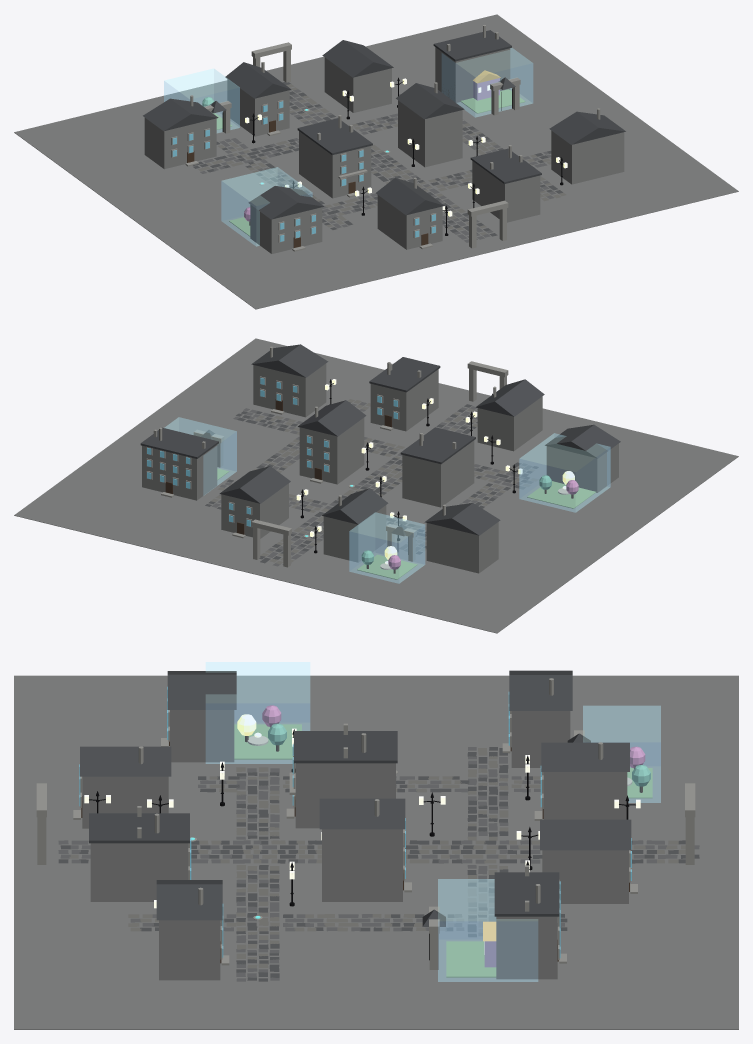
Rendered from Location02_OldTownNightSquare.fbx.
3 renders of one model, top to bottom at view 1: azimuth 30°, elevation 25°; view 2: azimuth 150°, elevation 25°; view 3: azimuth 270°, elevation 25°, orthographic. The views are drawn at different scales.
Visible parts, largest first — view 1: GROUND_OldTown_60x52m_SoftEdge, VIS_Road_CobblestonePavers_FirstStyle, ZONE_EastSanctuary_BrightInterior_TranslucentProtectionVolum, ZONE_WestGarden_NotForFragment_TranslucentProtectionVolume, ARCH_EastRow_B_OldStoneBody, ARCH_SouthCross_Right_OldStoneBody, ARCH_WestRow_B_OldStoneBody, ARCH_NorthCross_Left_OldStoneBody, ARCH_NorthCross_Right_OldStoneBody, ARCH_EastRow_A_OldStoneBody, ARCH_EastRow_C_OldStoneBody, ZONE_NorthPocket_WarmDream_TranslucentProtectionVolume (+14 smaller); view 2: GROUND_OldTown_60x52m_SoftEdge, VIS_Road_CobblestonePavers_FirstStyle, ZONE_WestGarden_NotForFragment_TranslucentProtectionVolume, ZONE_NorthPocket_WarmDream_TranslucentProtectionVolume, ARCH_WestRow_B_OldStoneBody, ARCH_EastRow_B_OldStoneBody, ARCH_NorthCross_Left_OldStoneBody, ARCH_NorthCross_Right_OldStoneBody, ARCH_SouthCross_Right_OldStoneBody, ARCH_EastRow_A_OldStoneBody, ARCH_WestRow_C_OldStoneBody, ARCH_SouthCross_Left_OldStoneBody (+15 smaller); view 3: GROUND_OldTown_60x52m_SoftEdge, VIS_Road_CobblestonePavers_FirstStyle, ZONE_WestGarden_NotForFragment_TranslucentProtectionVolume, ZONE_EastSanctuary_BrightInterior_TranslucentProtectionVolum, ARCH_EastRow_B_OldStoneBody, ARCH_EastRow_A_OldStoneBody, ZONE_NorthPocket_WarmDream_TranslucentProtectionVolume, ARCH_WestRow_B_OldStoneBody, ARCH_EastRow_C_OldStoneBody, ARCH_WestRow_C_OldStoneBody, ARCH_NorthCross_Right_OldStoneBody, ARCH_SouthCross_Right_OldStoneBody (+15 smaller).
Boxes of the visible parts, left/top/right/bottom form: GROUND_OldTown_60x52m_SoftEdge: left=14, top=14, right=738, bottom=309; VIS_Road_CobblestonePavers_FirstStyle: left=193, top=82, right=566, bottom=242; ZONE_EastSanctuary_BrightInterior_TranslucentProtectionVolum: left=442, top=48, right=532, bottom=117; ZONE_WestGarden_NotForFragment_TranslucentProtectionVolume: left=221, top=167, right=312, bottom=246; ARCH_EastRow_B_OldStoneBody: left=398, top=100, right=462, bottom=167; ARCH_SouthCross_Right_OldStoneBody: left=551, top=130, right=624, bottom=184; ARCH_WestRow_B_OldStoneBody: left=299, top=131, right=371, bottom=198; ARCH_NorthCross_Left_OldStoneBody: left=144, top=118, right=216, bottom=169; ARCH_NorthCross_Right_OldStoneBody: left=435, top=47, right=510, bottom=102; ARCH_EastRow_A_OldStoneBody: left=472, top=161, right=540, bottom=222; ARCH_EastRow_C_OldStoneBody: left=324, top=57, right=391, bottom=112; ZONE_NorthPocket_WarmDream_TranslucentProtectionVolume: left=164, top=68, right=239, bottom=132; GROUND_OldTown_60x52m_SoftEdge: left=14, top=338, right=738, bottom=633; VIS_Road_CobblestonePavers_FirstStyle: left=205, top=399, right=538, bottom=566; ZONE_WestGarden_NotForFragment_TranslucentProtectionVolume: left=519, top=433, right=610, bottom=512; ZONE_NorthPocket_WarmDream_TranslucentProtectionVolume: left=349, top=512, right=424, bottom=583; ARCH_WestRow_B_OldStoneBody: left=402, top=440, right=474, bottom=507; ARCH_EastRow_B_OldStoneBody: left=299, top=417, right=364, bottom=484; ARCH_NorthCross_Left_OldStoneBody: left=426, top=522, right=498, bottom=573; ARCH_NorthCross_Right_OldStoneBody: left=142, top=445, right=217, bottom=500; ARCH_SouthCross_Right_OldStoneBody: left=253, top=363, right=326, bottom=417; ARCH_EastRow_A_OldStoneBody: left=370, top=369, right=438, bottom=431; ARCH_WestRow_C_OldStoneBody: left=323, top=505, right=386, bottom=562; ARCH_SouthCross_Left_OldStoneBody: left=546, top=443, right=618, bottom=492; GROUND_OldTown_60x52m_SoftEdge: left=14, top=675, right=738, bottom=1029; VIS_Road_CobblestonePavers_FirstStyle: left=58, top=747, right=699, bottom=981; ZONE_WestGarden_NotForFragment_TranslucentProtectionVolume: left=206, top=662, right=309, bottom=763; ZONE_EastSanctuary_BrightInterior_TranslucentProtectionVolum: left=438, top=879, right=537, bottom=981; ARCH_EastRow_B_OldStoneBody: left=322, top=829, right=402, bottom=901; ARCH_EastRow_A_OldStoneBody: left=90, top=843, right=188, bottom=901; ZONE_NorthPocket_WarmDream_TranslucentProtectionVolume: left=583, top=706, right=660, bottom=802; ARCH_WestRow_B_OldStoneBody: left=295, top=763, right=395, bottom=828; ARCH_EastRow_C_OldStoneBody: left=542, top=850, right=628, bottom=903; ARCH_WestRow_C_OldStoneBody: left=543, top=772, right=627, bottom=819; ARCH_NorthCross_Right_OldStoneBody: left=496, top=916, right=557, bottom=979; ARCH_SouthCross_Right_OldStoneBody: left=159, top=920, right=220, bottom=980.
Size of the model in its own units: 60 by 7.65 by 52.
